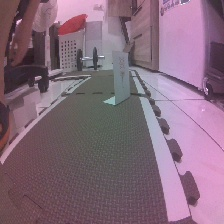rail: (113, 53, 130, 90)
